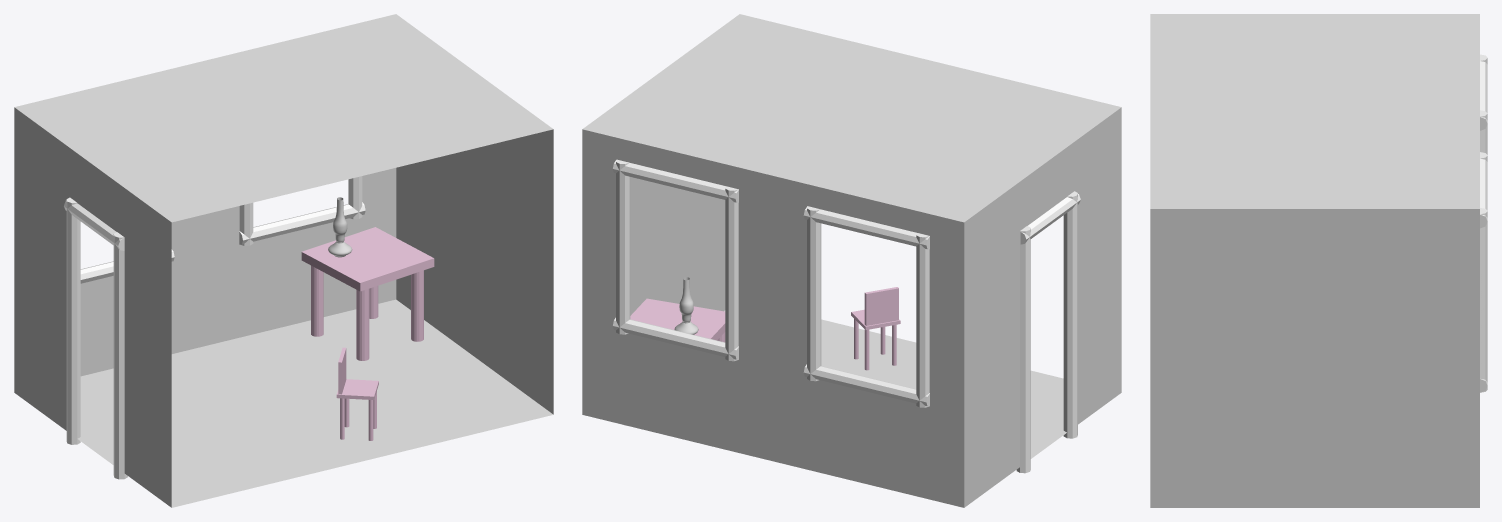
The picture shows the model from 3 angles, left to right: view 1: azimuth 30°, elevation 25°; view 2: azimuth 150°, elevation 25°; view 3: azimuth 270°, elevation 25°; orthographic projection. The views are drawn at different scales.
Parts seen in each view (by area): view 1: Cube, TableTop, Tube.010, Tube.009, Tube.007, Circle.001, Circle.002, Circle, Tube.008, ChairMiddle; view 2: Cube, Tube.009, Tube.010, Tube.004, Tube.001, Tube.006, Tube.003, TableTop, Tube.007, Tube.002, Tube, Tube.005 (+2 smaller); view 3: Cube, Tube.001, Tube.005, Tube.
Part boxes in pixels (left/top/right/bottom): Cube: left=14, top=14, right=553, bottom=507; TableTop: left=301, top=227, right=434, bottom=291; Tube.010: left=66, top=197, right=80, bottom=444; Tube.009: left=113, top=232, right=127, bottom=479; Tube.007: left=239, top=202, right=365, bottom=244; Circle.001: left=356, top=289, right=369, bottom=360; Circle.002: left=411, top=270, right=423, bottom=341; Circle: left=311, top=265, right=323, bottom=336; Tube.008: left=64, top=200, right=124, bottom=250; ChairMiddle: left=336, top=379, right=378, bottom=399; Cube: left=582, top=14, right=1121, bottom=507; Tube.009: left=1063, top=191, right=1077, bottom=438; Tube.010: left=1016, top=226, right=1030, bottom=473; Tube.004: left=807, top=206, right=821, bottom=381; Tube.001: left=616, top=159, right=630, bottom=334; Tube.006: left=725, top=186, right=738, bottom=361; Tube.003: left=916, top=233, right=929, bottom=407; TableTop: left=630, top=298, right=725, bottom=340; Tube.007: left=613, top=317, right=738, bottom=359; Tube.002: left=803, top=364, right=929, bottom=406; Tube: left=803, top=206, right=929, bottom=249; Tube.005: left=613, top=160, right=738, bottom=202; Cube: left=1150, top=14, right=1479, bottom=507; Tube.001: left=1480, top=208, right=1487, bottom=392; Tube.005: left=1480, top=158, right=1487, bottom=228; Tube: left=1480, top=54, right=1487, bottom=130.
Bounding box in the file's own units: 2.85 × 2.06 × 2.05.
